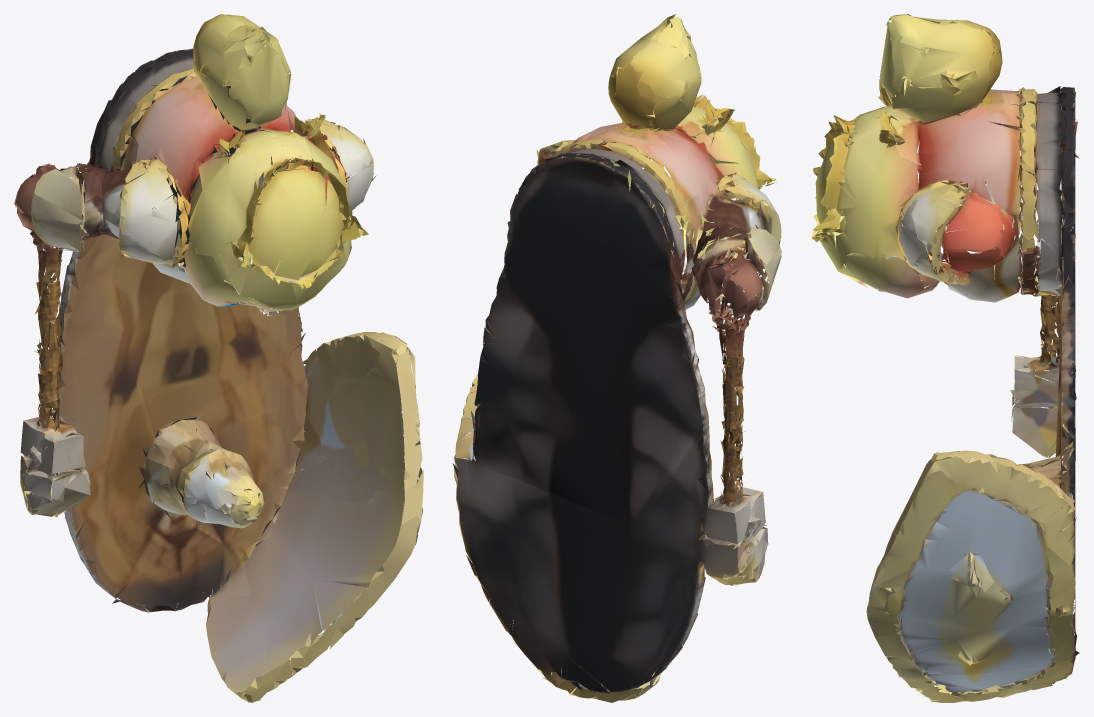
The model's file is hero_paladin_toon.glb.
3 renders of one model, left to right at view 1: azimuth 30°, elevation 25°; view 2: azimuth 150°, elevation 25°; view 3: azimuth 270°, elevation 25°, orthographic. The views are drawn at different scales.
Visible parts, largest first — view 1: HeroPaladin.001; view 2: HeroPaladin.001; view 3: HeroPaladin.001.
Boxes of the visible parts, x1,y1,x2,y2 form: HeroPaladin.001: (14,14,423,702); HeroPaladin.001: (452,14,781,702); HeroPaladin.001: (811,14,1079,702).
Size of the model in its own units: 0.9606 by 1.89 by 0.6713.
Materials: 1 (1 with a texture image).
